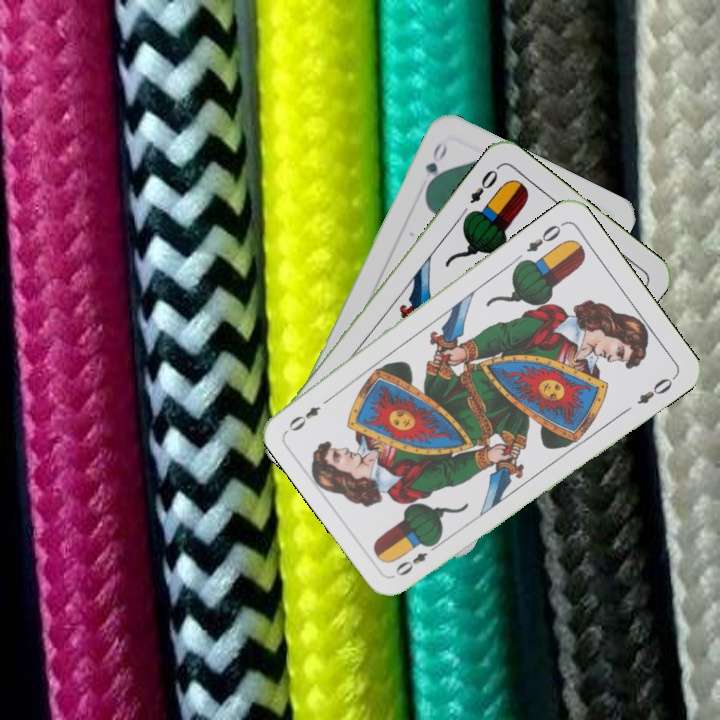EO: (391, 538, 442, 579), (465, 161, 502, 207), (522, 218, 567, 255)
GO: (421, 138, 450, 193)
